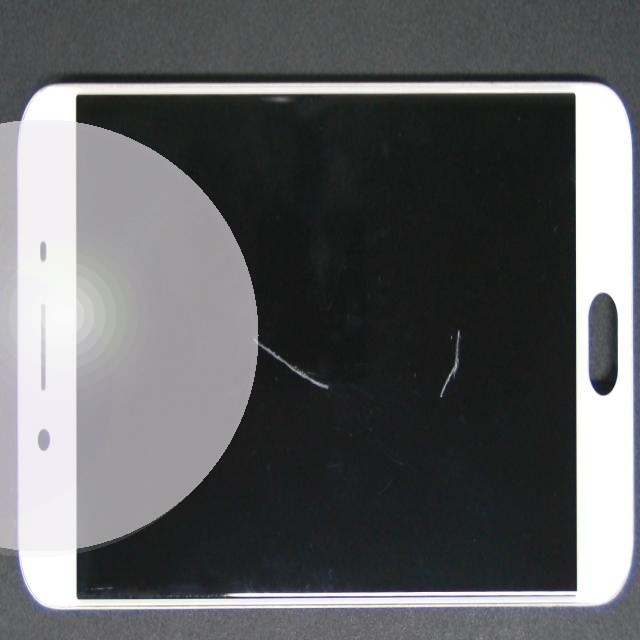scratch: (241, 111, 640, 510), (214, 231, 470, 551)
